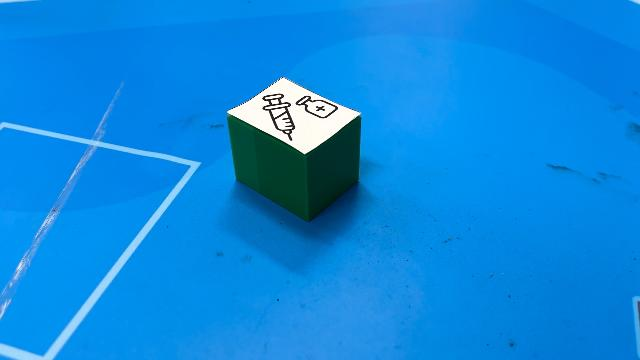syringe: (226, 76, 362, 222)
